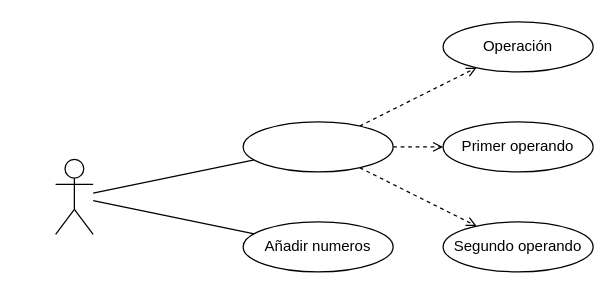
Image size: 615x294. Some labels were removed from this diagram. The shapes that lost their labels are listed below. From the top down, each one's box as (x1, y1, x2, y2) in pixels, then its label:
(242, 121, 393, 172): Perform Operation
(54, 158, 93, 234): SayBigNumber
